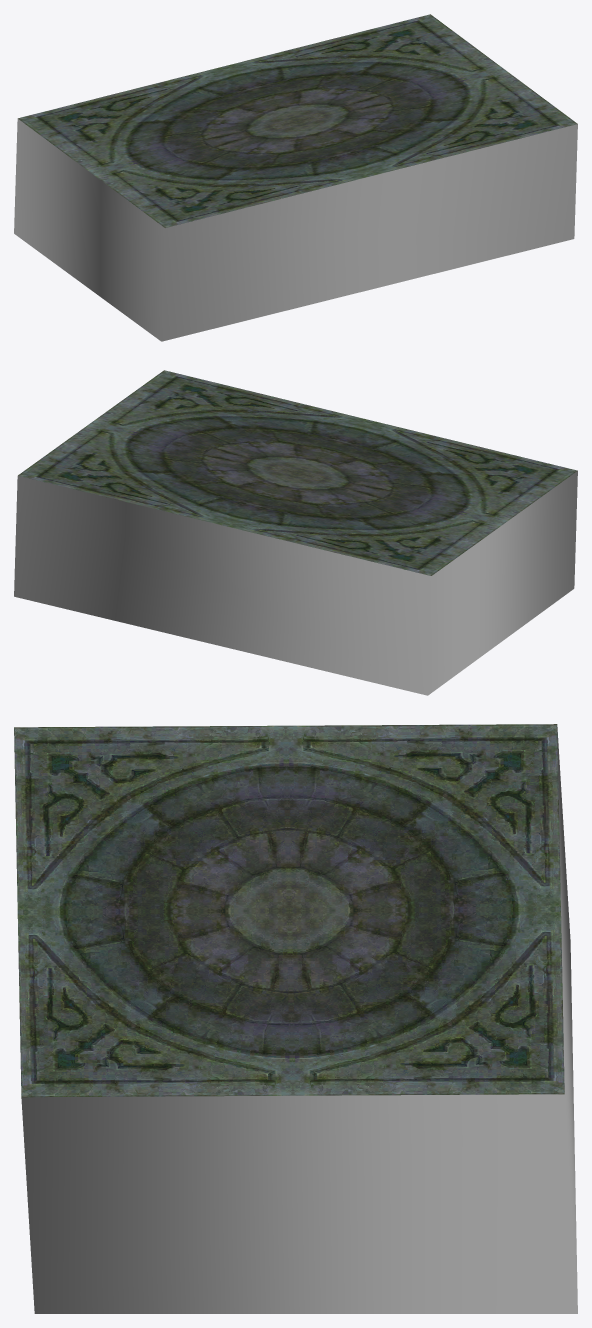
The model's file is environment_building_pingtai_003_a.FBX.
3 renders of one model, top to bottom at view 1: azimuth 30°, elevation 25°; view 2: azimuth 150°, elevation 25°; view 3: azimuth 270°, elevation 25°, orthographic. The views are drawn at different scales.
Visible parts, largest first — view 1: environment_building_pingtai_003_c, environment_building_pingtai_003_b; view 2: environment_building_pingtai_003_c, environment_building_pingtai_003_b; view 3: environment_building_pingtai_003_b, environment_building_pingtai_003_c.
Boxes of the visible parts, x1,y1,x2,y2 form: environment_building_pingtai_003_c: [14, 119, 577, 341]; environment_building_pingtai_003_b: [18, 14, 577, 227]; environment_building_pingtai_003_c: [14, 471, 577, 695]; environment_building_pingtai_003_b: [18, 370, 577, 575]; environment_building_pingtai_003_b: [14, 724, 564, 1097]; environment_building_pingtai_003_c: [21, 727, 577, 1313].
Size of the model in its own units: 185 by 50.85 by 118.
